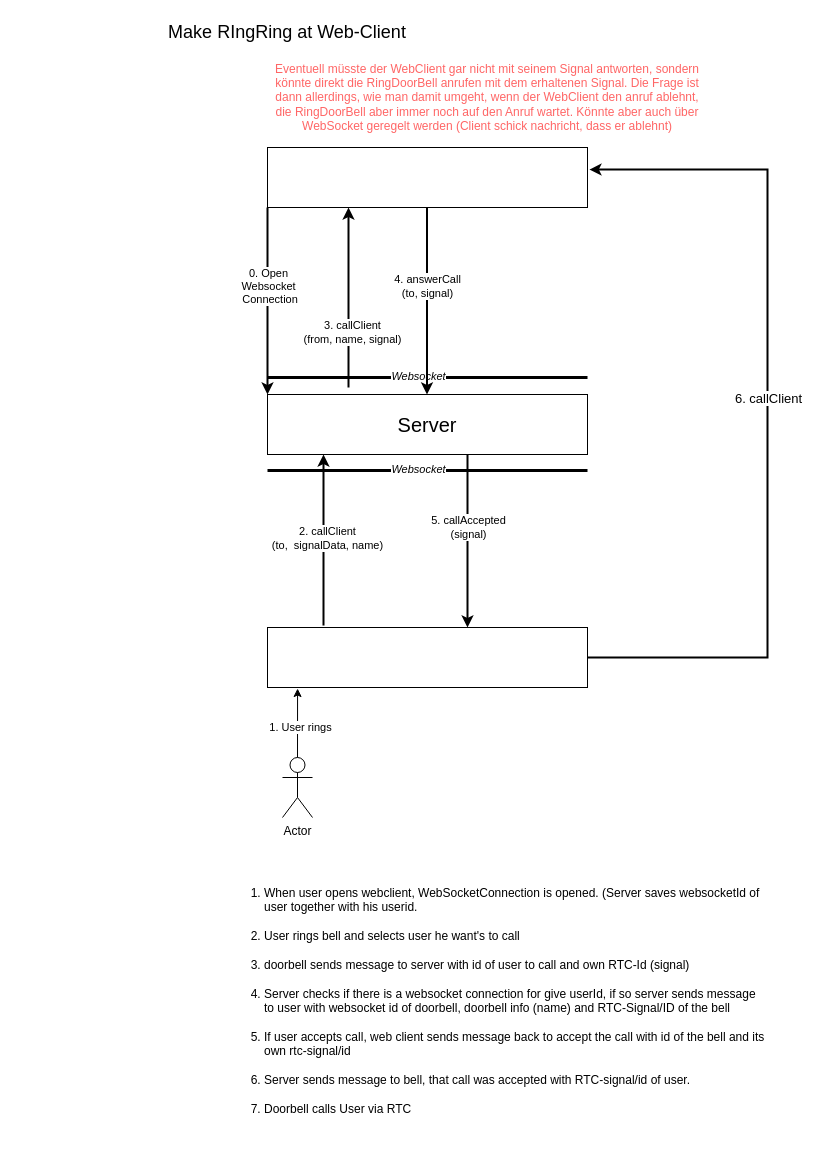
The diagram is 819 pixels wide and 1174 high, and some of its shapes have lost their labels. The centre of each missing label's shape, as x and y in pixels:
Ring-Door-Bell: point (427, 657)
Web-Client: point (427, 177)
